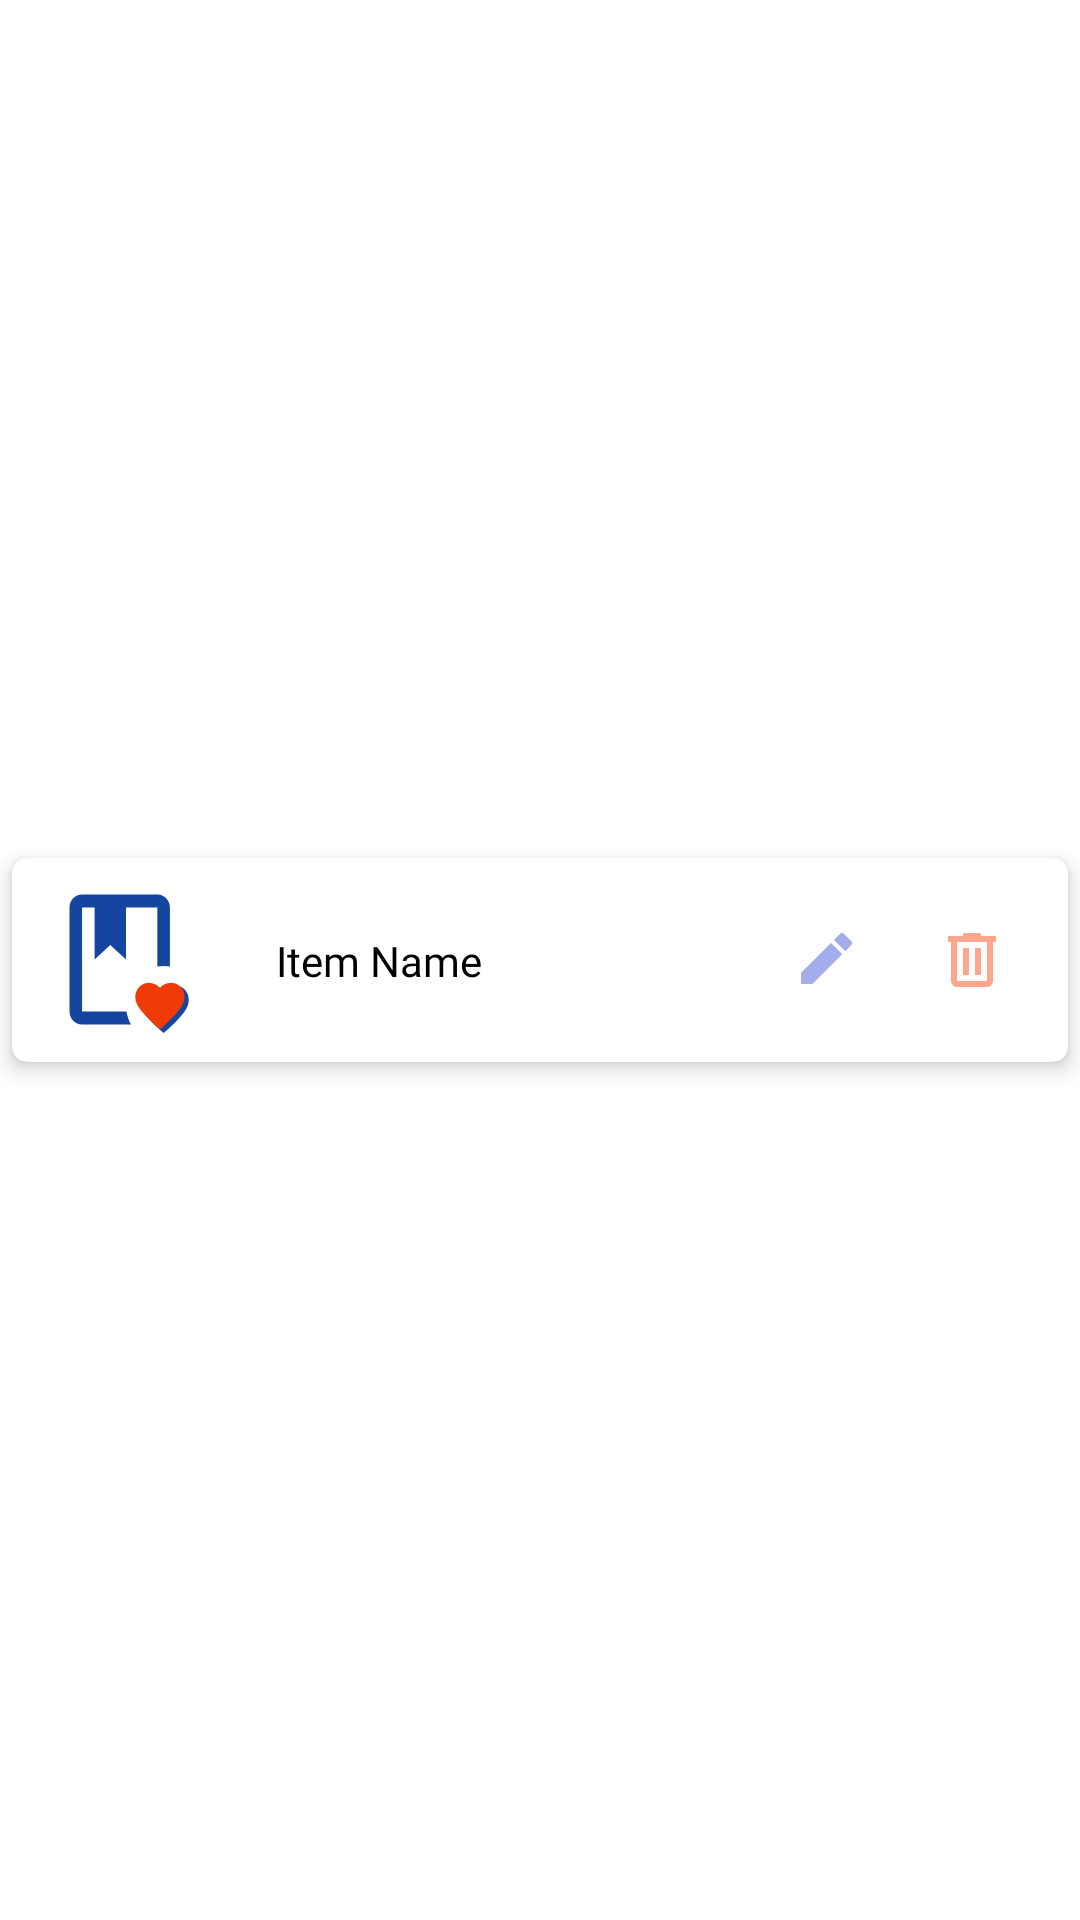

Locate icon controls on the screen. Image size 1080 x 1920, boxes as (x1, y1, x2, y2).
delete item: (948, 933, 996, 987)
edit item: (801, 933, 852, 984)
